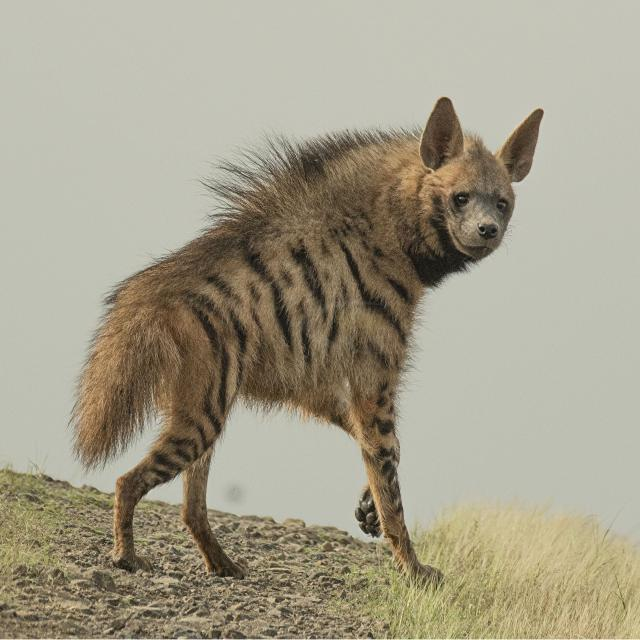Hyena: (71, 88, 558, 578)
